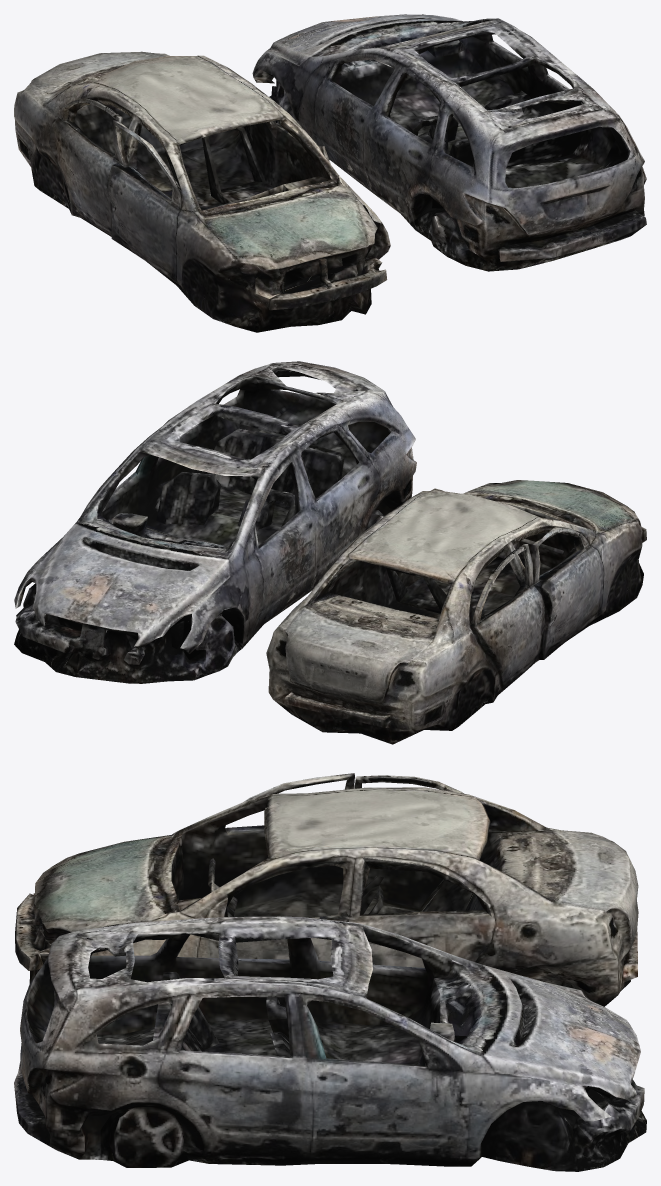
The model's file is cars.glb.
3 renders of one model, top to bottom at view 1: azimuth 30°, elevation 25°; view 2: azimuth 150°, elevation 25°; view 3: azimuth 270°, elevation 25°, orthographic. The views are drawn at different scales.
Visible parts, largest first — view 1: m; view 2: m; view 3: m.
Boxes of the visible parts, box(x1,y1,x2,y2) form: m: box(14, 14, 646, 332); m: box(14, 361, 646, 744); m: box(14, 773, 646, 1171).
Bounding box in the file's own units: 4.4 × 1.35 × 4.6.
2 materials, 2 textured.
